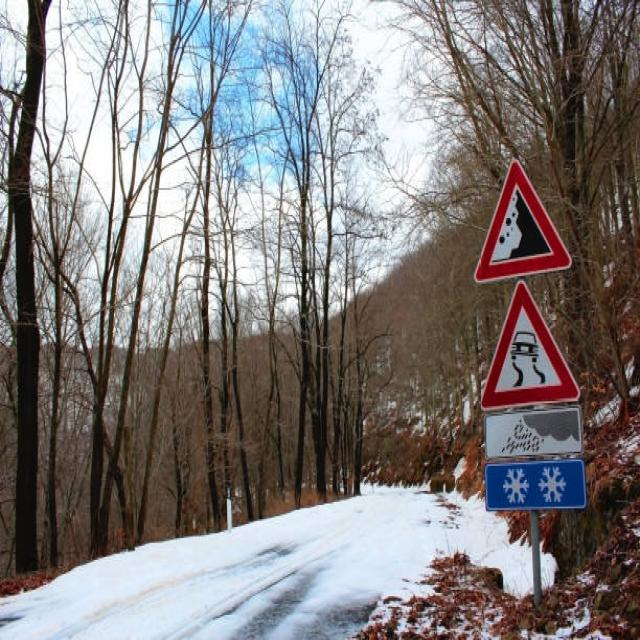road_slippery: (478, 279, 579, 413)
